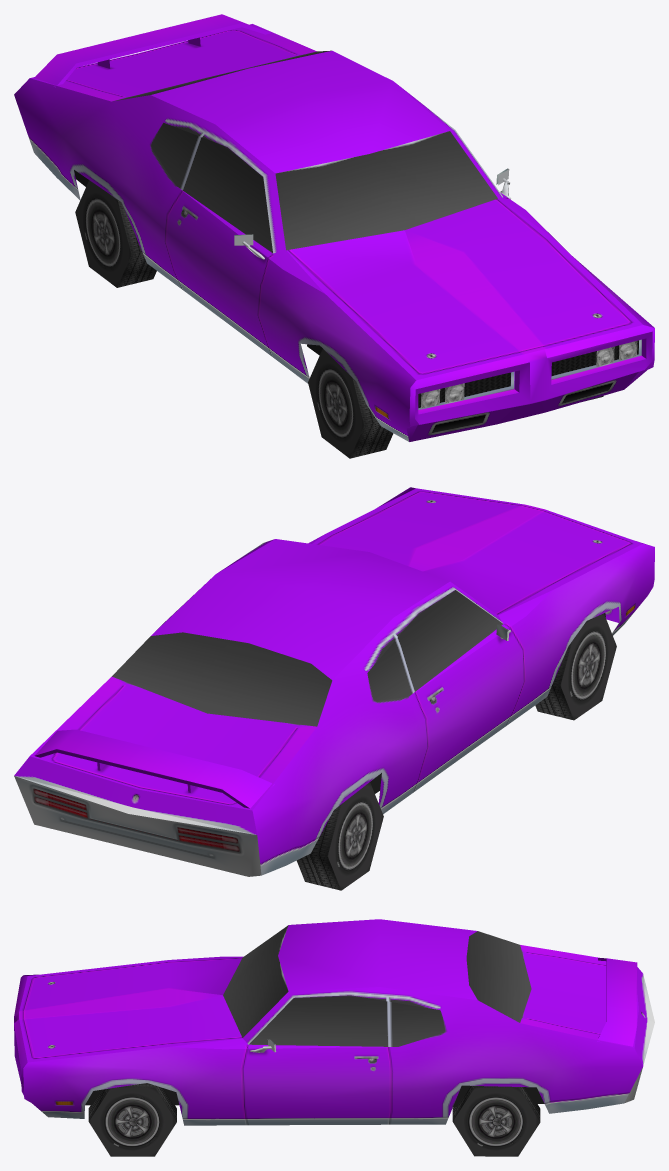
Rendered from Classic_Muscle_Car_LOD2.fbx.
3 views of the same model, one above another, from view 1: azimuth 30°, elevation 25°; view 2: azimuth 150°, elevation 25°; view 3: azimuth 270°, elevation 25° (orthographic). The views are drawn at different scales.
Parts seen in each view (by area): view 1: Chassis, RF_Wheel, RR_Wheel; view 2: Chassis, RR_Wheel, RF_Wheel; view 3: Chassis, LF_Wheel, LR_Wheel.
Boxes of the visible parts, <box> form: Chassis: <box>14,14,654,441</box>; RF_Wheel: <box>308,349,393,458</box>; RR_Wheel: <box>75,180,156,287</box>; Chassis: <box>14,487,654,876</box>; RR_Wheel: <box>296,782,383,890</box>; RF_Wheel: <box>535,613,616,720</box>; Chassis: <box>14,919,654,1125</box>; LF_Wheel: <box>88,1083,176,1156</box>; LR_Wheel: <box>452,1086,540,1156</box>.
Bounding box in the file's own units: 2.04 × 1.47 × 5.27.
Materials: 2 (2 with a texture image).
